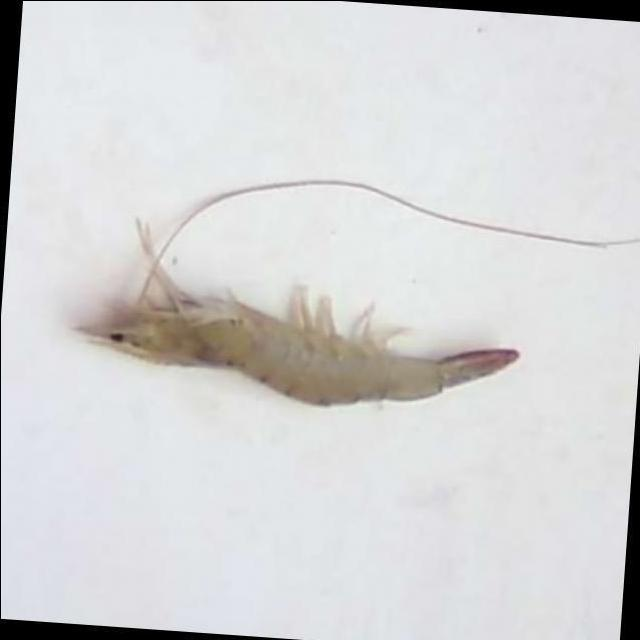shrimp: (76, 221, 518, 406)
